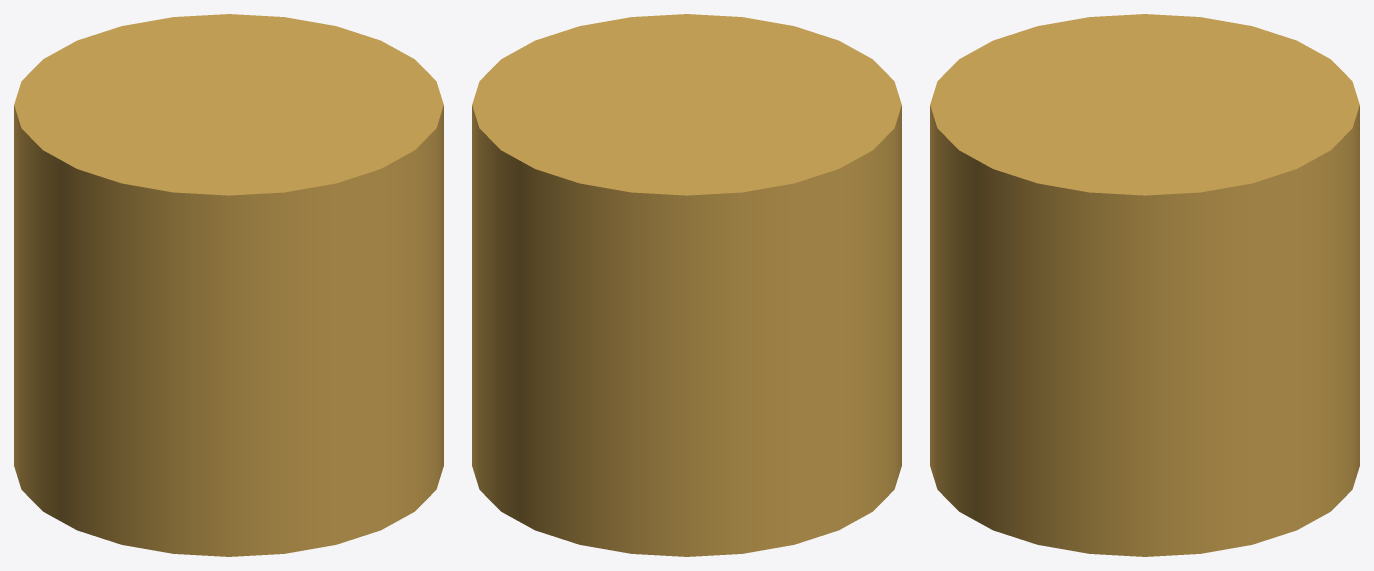
File: paper.glb
3 views of the same model, side by side, from view 1: azimuth 30°, elevation 25°; view 2: azimuth 150°, elevation 25°; view 3: azimuth 270°, elevation 25° (orthographic).
Visible parts, largest first — view 1: MeteredGlue; view 2: MeteredGlue; view 3: MeteredGlue.
Boxes of the visible parts, bbox=[...] form: MeteredGlue: bbox=[14, 14, 443, 556]; MeteredGlue: bbox=[472, 14, 901, 556]; MeteredGlue: bbox=[930, 14, 1359, 556].
Size of the model in its own units: 0.014 by 0.013 by 0.014.
